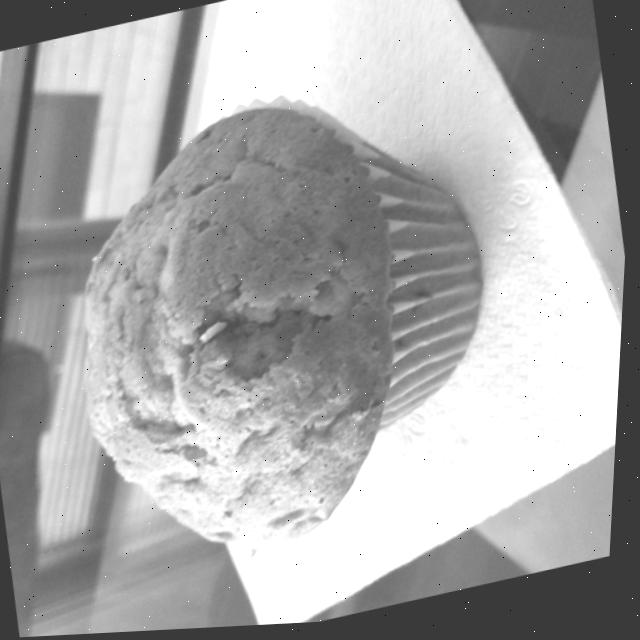炸货点心: (35, 46, 572, 618)
面包点心: (35, 46, 572, 618)
